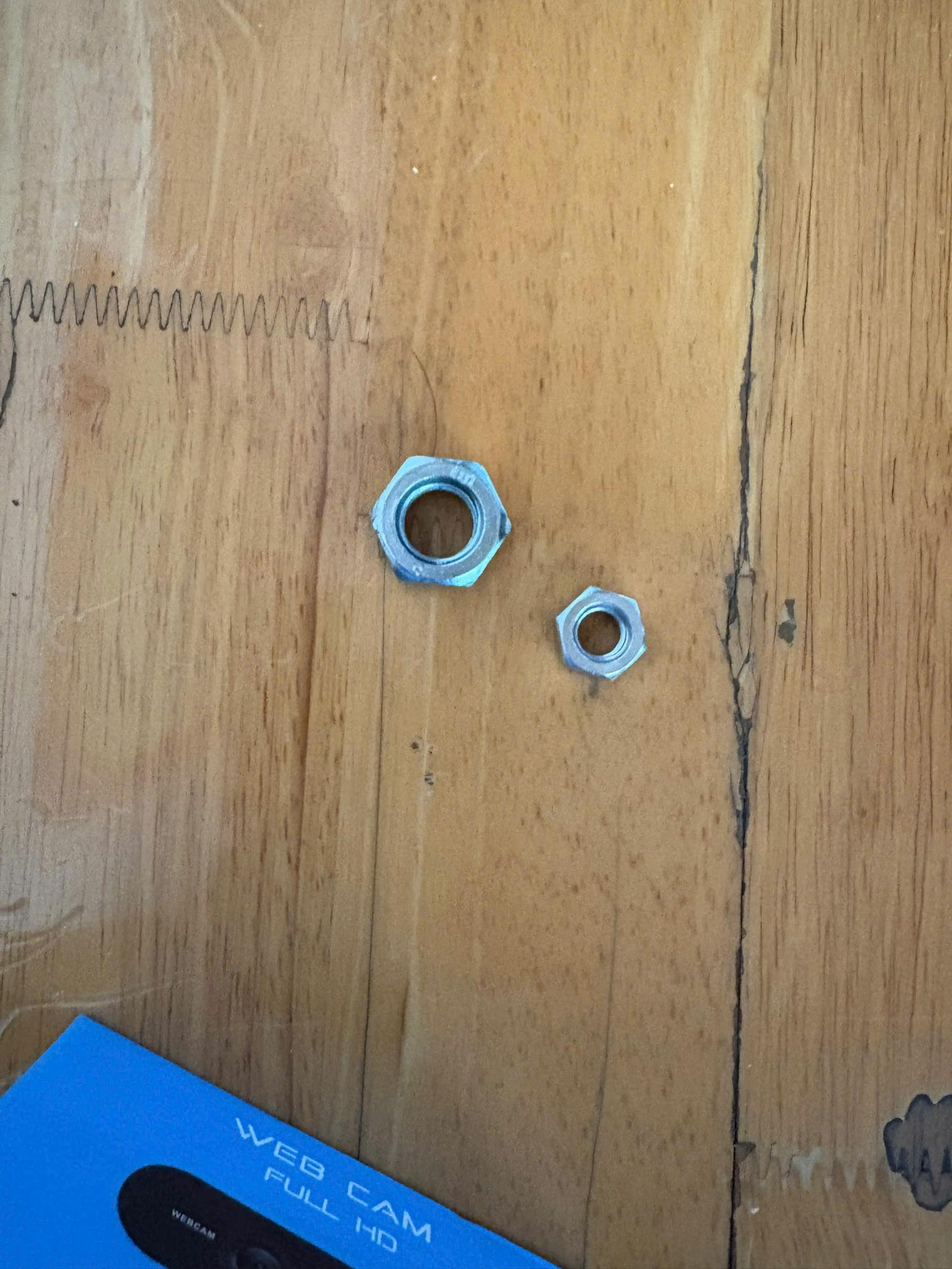nut: (362, 437, 516, 605), (545, 576, 656, 692)
